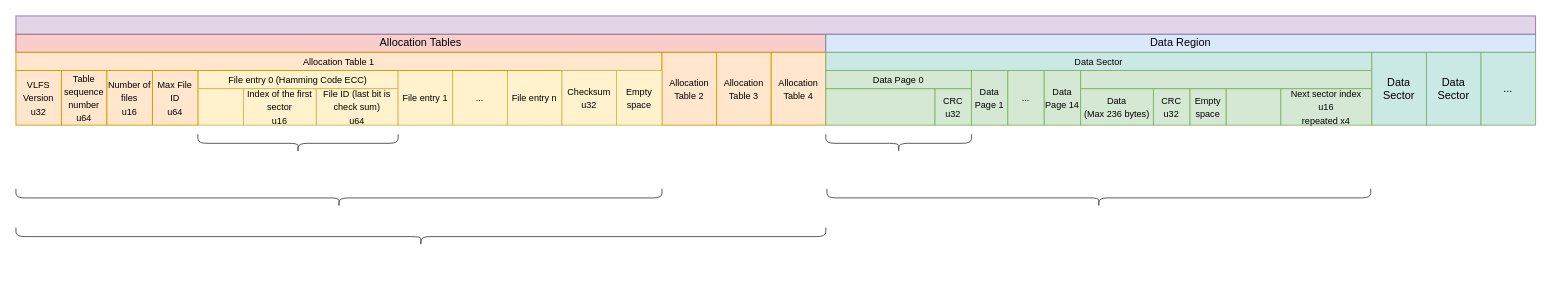
Image size: 1552x288. Some labels were removed from this diagram. The centre of each missing label's shape, as x and y in pixels:
128KiB: the point at 420,236
13 bytes: the point at 297,142
256 bytes: the point at 898,142
32KiB: the point at 338,197
4KiB: the point at 1098,197
Data 252 bytes: the point at 880,106
Data Length u16 repeated x4: the point at 1253,106
Disk: the point at 775,24
File type u16: the point at 220,106
Last Data Page (15): the point at 1226,79
